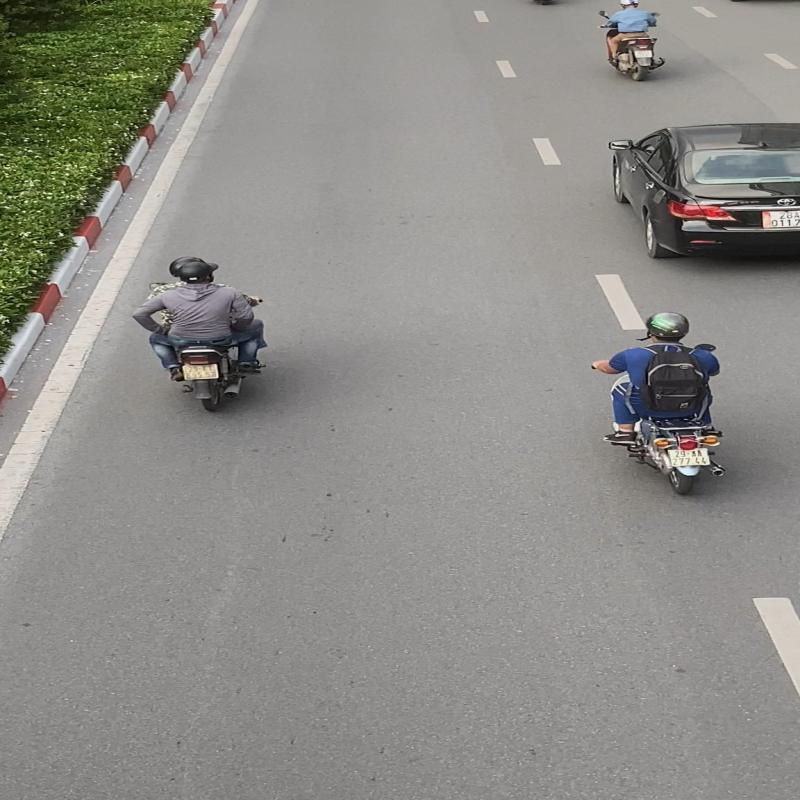helmet: (648, 312, 688, 338), (167, 257, 208, 279), (179, 262, 220, 280)
licenseplate: (667, 447, 714, 469), (179, 363, 224, 382)
motorcyclist: (586, 310, 732, 496), (127, 254, 276, 414)
